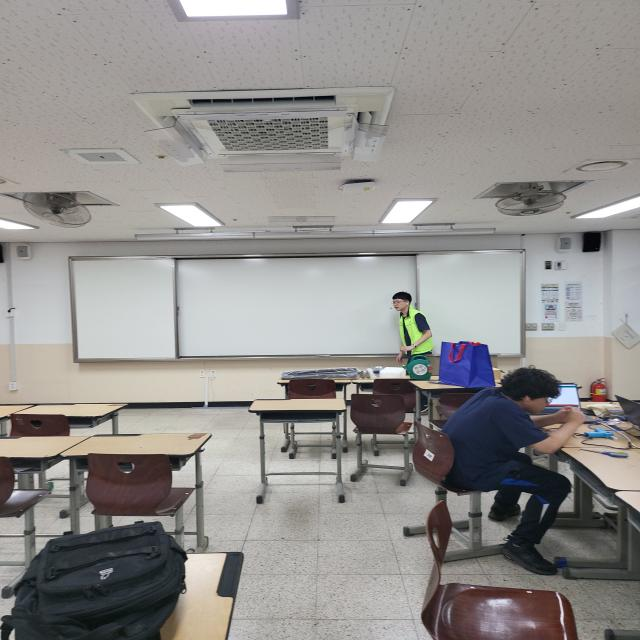weston_spy: (393, 308, 435, 359)
